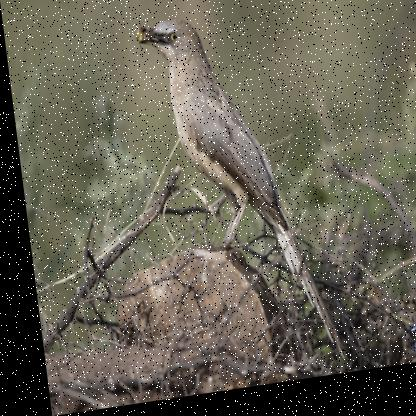Burung: (135, 8, 336, 387)
